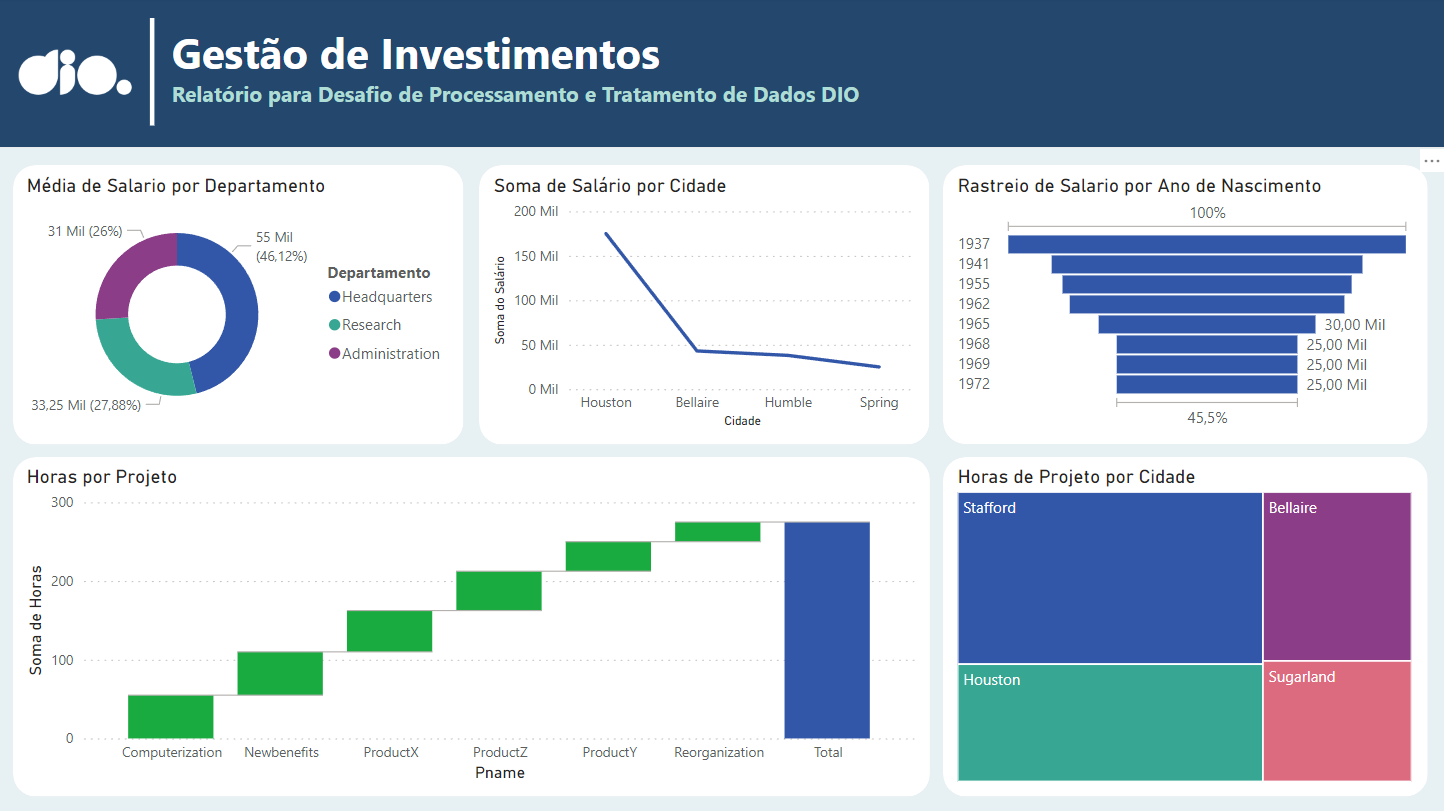

This screenshot's page, from the dashboard's own definition file:
{"tool":"powerbi","page":{"name":"Página 1","canvas":[1280,720],"ordinal":0},"visuals":[{"type":"shape","box":[0,0,1280,720],"z":0},{"type":"shape","box":[15,406.7,810,300],"z":2000},{"type":"shape","box":[836.7,406.7,428.3,300],"z":3000},{"type":"shape","box":[836.7,148.3,428.3,246.7],"z":4000},{"type":"shape","box":[15,148,398,247],"z":5000},{"type":"shape","box":[427,148,398,247],"z":6000},{"type":"waterfallChart","title":"Horas por Projeto","fields":{"Category":["azure_company project.Pname"],"Y":["Sum(azure_company works_on.Hours)"]},"box":[21.8,413.6,795.5,284.5],"z":7000},{"type":"treemap","title":"Horas de Projeto por Cidade","fields":{"Group":["azure_company project.Plocation"],"Values":["Sum(azure_company works_on.Hours)"]},"box":[844.5,413.6,410.9,284.5],"z":8000},{"type":"donutChart","title":"Média de Salario por Departamento","fields":{"Y":["Avg(azure_company employee.Salary)"],"Category":["azure_company employee.Dname"]},"box":[21.8,156.4,384.5,229.1],"z":9000},{"type":"funnel","title":"Rastreio de Salario por Ano de  Nascimento","fields":{"Category":["azure_company employee.Bdate.Variation.Hierarquia de datas.Ano"],"Y":["Median(azure_company employee.Salary)"]},"box":[844.5,156.4,410.9,229.1],"z":10000},{"type":"lineChart","title":"Soma de Salário por Cidade","fields":{"Y":["Sum(azure_company employee.Salary)"],"Category":["azure_company employee.City"]},"box":[434.5,156.4,382.7,229.1],"z":11000},{"type":"shape","box":[0,0,1280,133.3],"z":11500},{"type":"image","box":[15,11.2,110,110],"z":11501},{"type":"shape","box":[125,18.8,25,95],"z":11502},{"type":"textbox","box":[150,18.8,652.5,102.5],"z":11503}]}

Visuals, with their boxes in screenshot pixels (x1, y1, x2, y2), scaled from the page's 1280x720 canvas onto the 1444x811 screenshot:
shape: [left=0, top=0, right=1443, bottom=810]
shape: [left=17, top=458, right=931, bottom=796]
shape: [left=944, top=458, right=1427, bottom=796]
shape: [left=944, top=167, right=1427, bottom=445]
shape: [left=17, top=167, right=466, bottom=445]
shape: [left=482, top=167, right=931, bottom=445]
"Horas por Projeto" waterfallChart: [left=25, top=466, right=922, bottom=786]
"Horas de Projeto por Cidade" treemap: [left=953, top=466, right=1416, bottom=786]
"Média de Salario por Departamento" donutChart: [left=25, top=176, right=458, bottom=434]
"Rastreio de Salario por Ano de  Nascimento" funnel: [left=953, top=176, right=1416, bottom=434]
"Soma de Salário por Cidade" lineChart: [left=490, top=176, right=922, bottom=434]
shape: [left=0, top=0, right=1443, bottom=150]
image: [left=17, top=13, right=141, bottom=137]
shape: [left=141, top=21, right=169, bottom=128]
textbox: [left=169, top=21, right=905, bottom=137]
